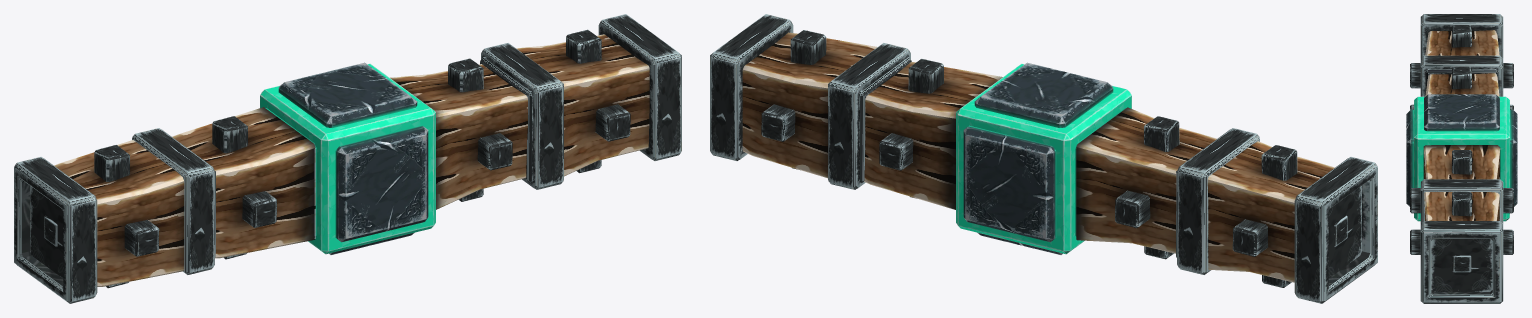
The model's file is step_005.glb.
3 renders of one model, left to right at view 1: azimuth 30°, elevation 25°; view 2: azimuth 150°, elevation 25°; view 3: azimuth 270°, elevation 25°, orthographic. The views are drawn at different scales.
Parts seen in each view (by area): view 1: SingleWoodenBlock_f3e6ed81-ad86-44ca-9453-6e1b11dc1184, StartingBlock_dbda39c8-bdc3-403f-b7ba-51cec5459ea8; view 2: SingleWoodenBlock_f3e6ed81-ad86-44ca-9453-6e1b11dc1184, StartingBlock_dbda39c8-bdc3-403f-b7ba-51cec5459ea8; view 3: SingleWoodenBlock_f3e6ed81-ad86-44ca-9453-6e1b11dc1184, StartingBlock_dbda39c8-bdc3-403f-b7ba-51cec5459ea8.
Part boxes in pixels (box(x1,y1,x2,y2)): SingleWoodenBlock_f3e6ed81-ad86-44ca-9453-6e1b11dc1184: box(14, 14, 681, 303); StartingBlock_dbda39c8-bdc3-403f-b7ba-51cec5459ea8: box(260, 62, 435, 254); SingleWoodenBlock_f3e6ed81-ad86-44ca-9453-6e1b11dc1184: box(710, 14, 1377, 303); StartingBlock_dbda39c8-bdc3-403f-b7ba-51cec5459ea8: box(956, 62, 1131, 254); SingleWoodenBlock_f3e6ed81-ad86-44ca-9453-6e1b11dc1184: box(1410, 14, 1513, 303); StartingBlock_dbda39c8-bdc3-403f-b7ba-51cec5459ea8: box(1406, 94, 1517, 221).
Bounding box in the file's own units: 5.22 × 1.13 × 1.13.
2 materials, 2 textured.
